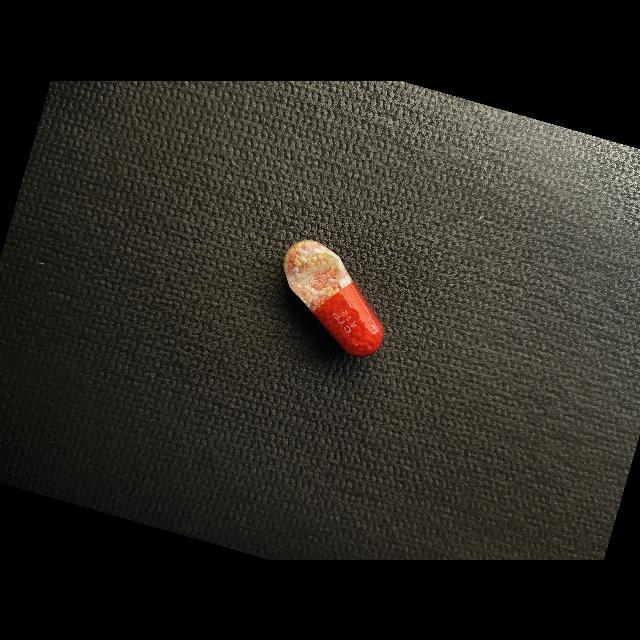Defective Capsule: (284, 239, 384, 356)
